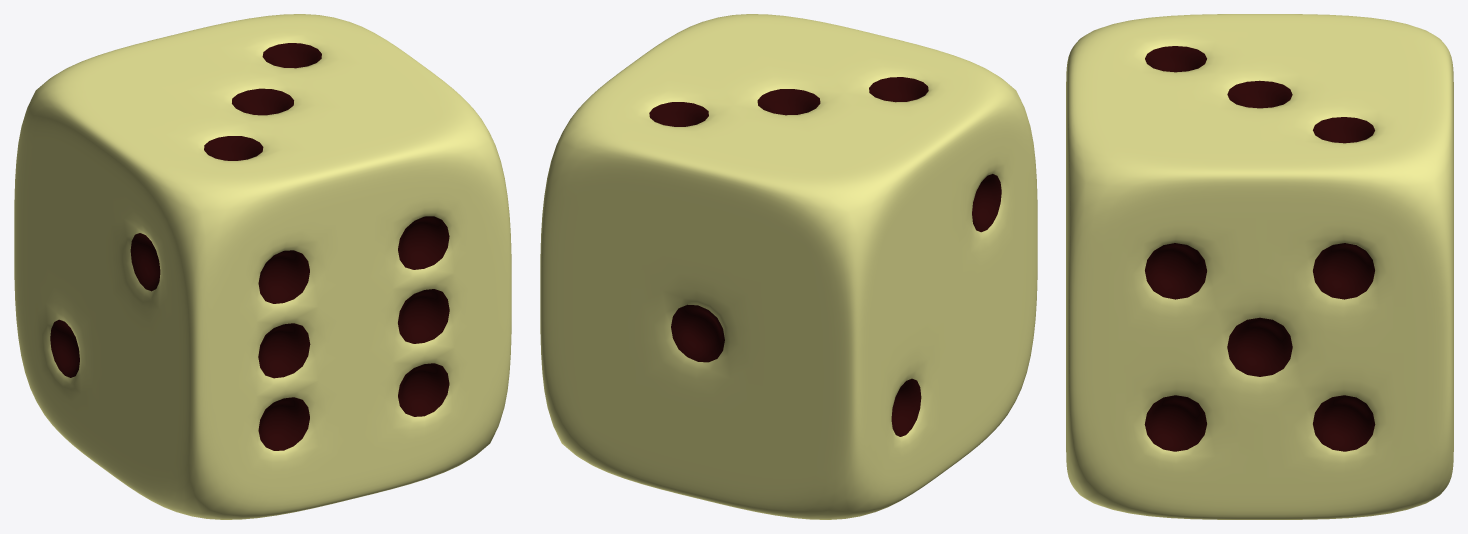
File: Dice.FBX
3 views of the same model, side by side, from view 1: azimuth 30°, elevation 25°; view 2: azimuth 150°, elevation 25°; view 3: azimuth 270°, elevation 25° (orthographic). The views are drawn at different scales.
Visible parts, largest first — view 1: Box001; view 2: Box001; view 3: Box001.
Part boxes in pixels (left/top/right/bottom): Box001: left=14, top=14, right=511, bottom=519; Box001: left=540, top=14, right=1037, bottom=519; Box001: left=1066, top=14, right=1453, bottom=519.
Size of the model in its own units: 1.27 by 1.27 by 1.27.
